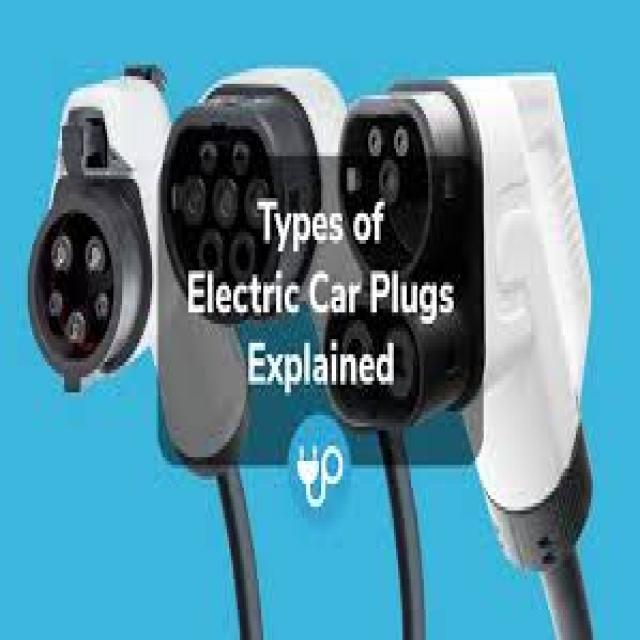Type 2: (143, 94, 324, 310)
